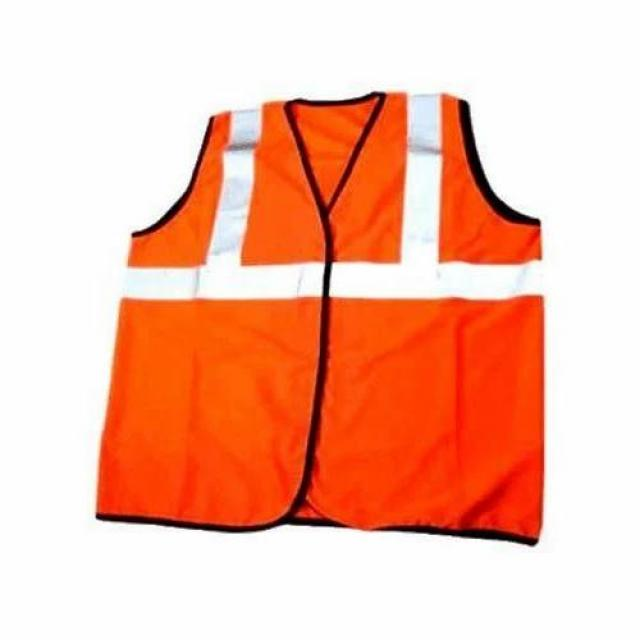Reflective-Jacket: (45, 55, 609, 565)
